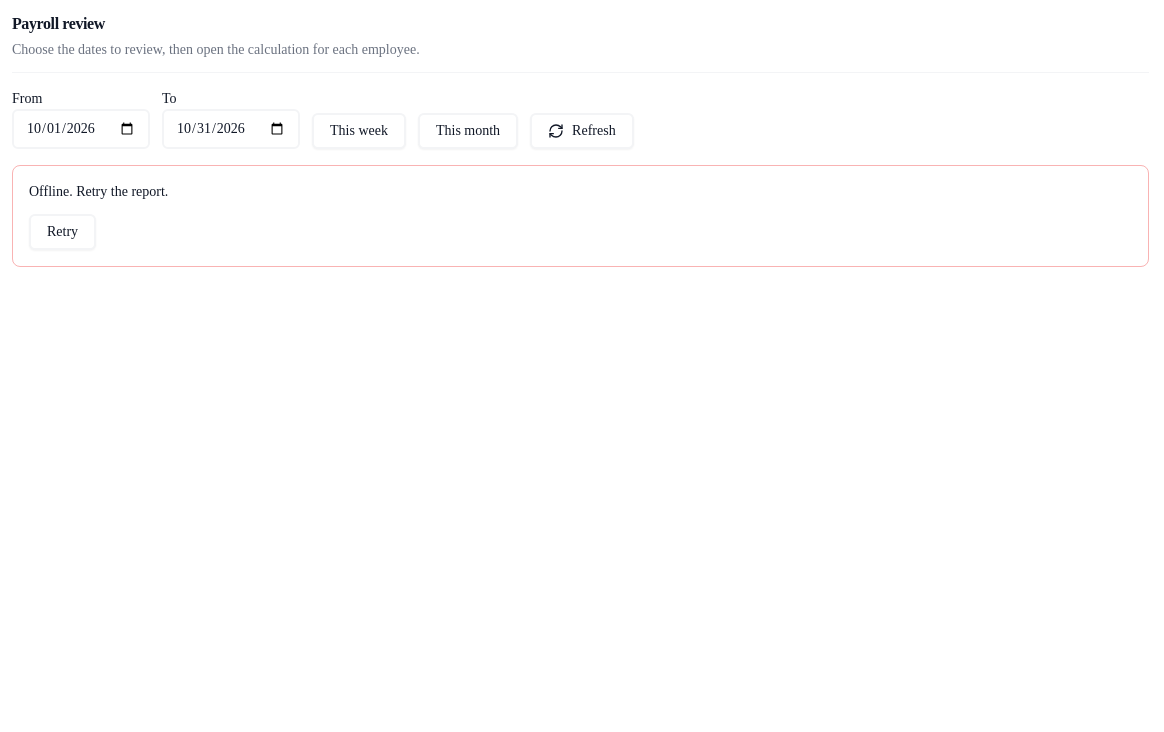
PayrollPeriodReview › shows failed loads and retries instead of displaying a zero
Expected: the message shows "Offline", x1=29 y1=184 x2=168 y2=199
Expected: the text "Estimated earnings" is not shown
Step 1. Click the button "Retry" → click(63, 232), box x1=29 y1=214 x2=96 y2=250
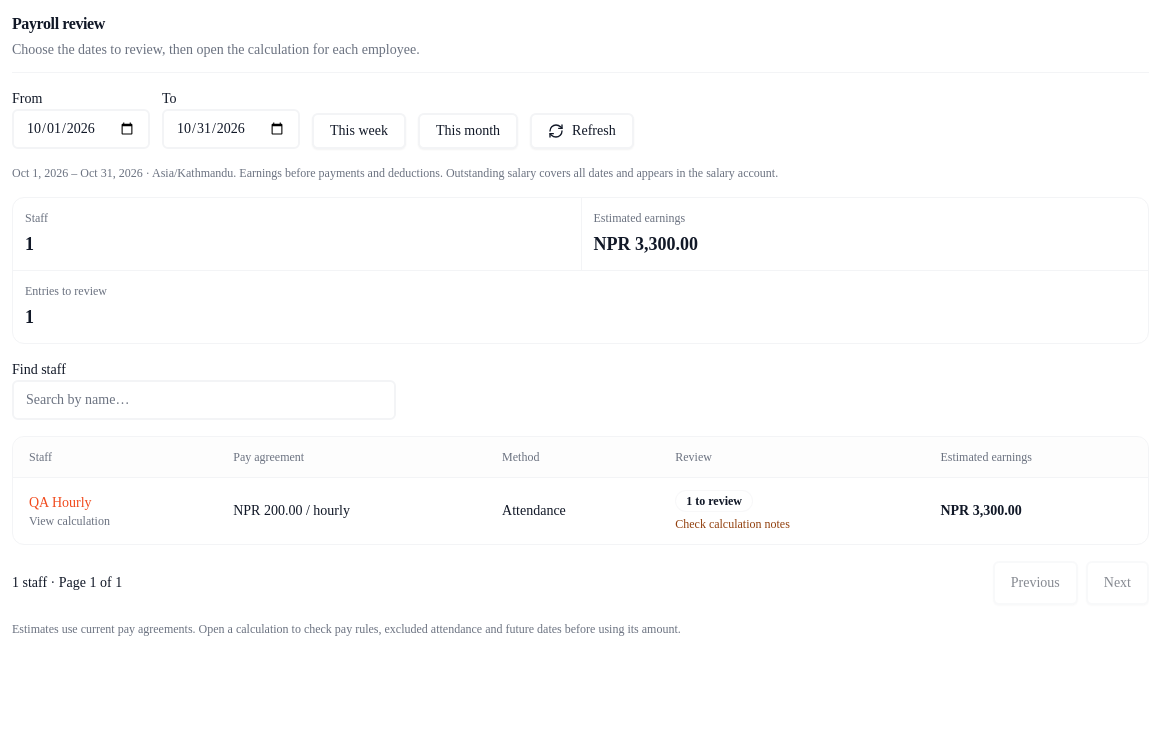
Expected: the button "QA Hourly" is shown, x1=29 y1=493 x2=92 y2=513
